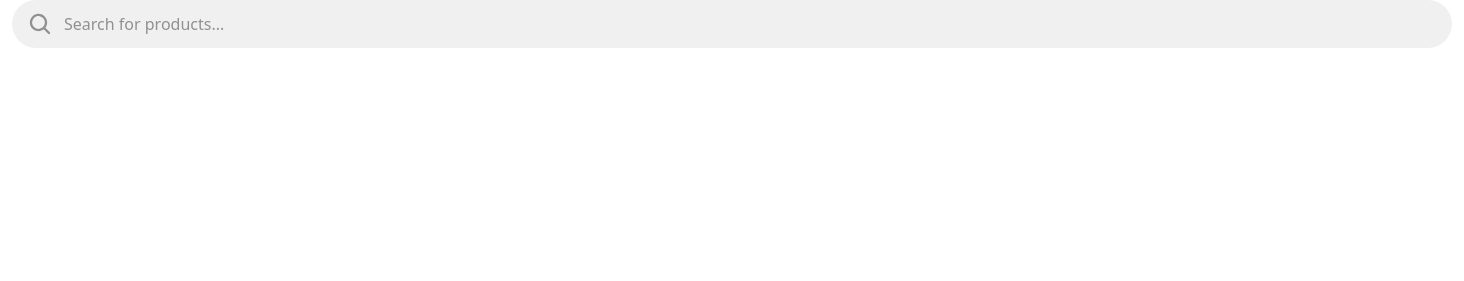
SearchBox outside the shop page › highlights the typed text as plain text, never as HTML
Type "shirt" into the dropdown labelled "Search for products".
click(750, 24); type("shirt")  # box [64, 12, 1436, 36]
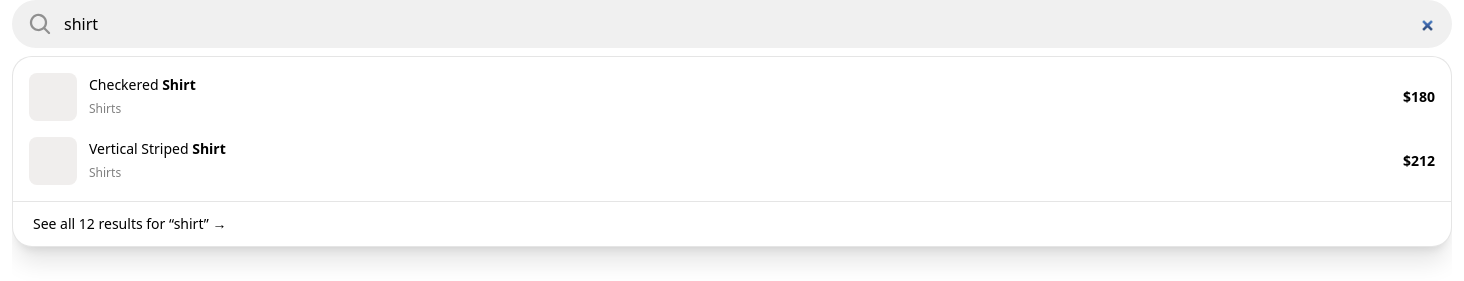
Now the text "Shirt" next to "Checkered" is shown, box [162, 75, 196, 94]
